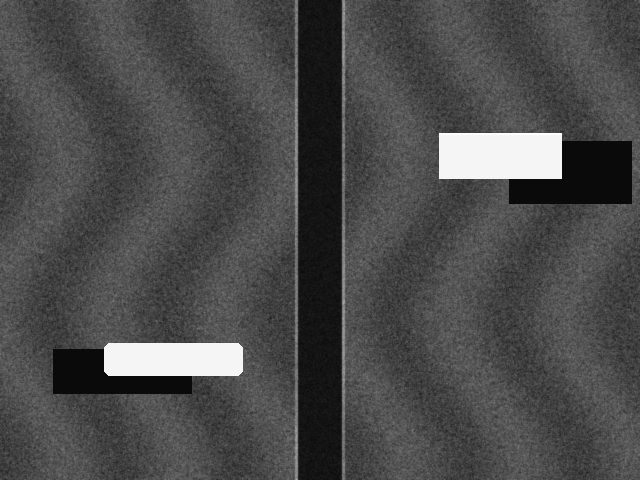Metal Debris: (439, 133, 561, 178)
Wood Debris: (104, 343, 242, 375)
